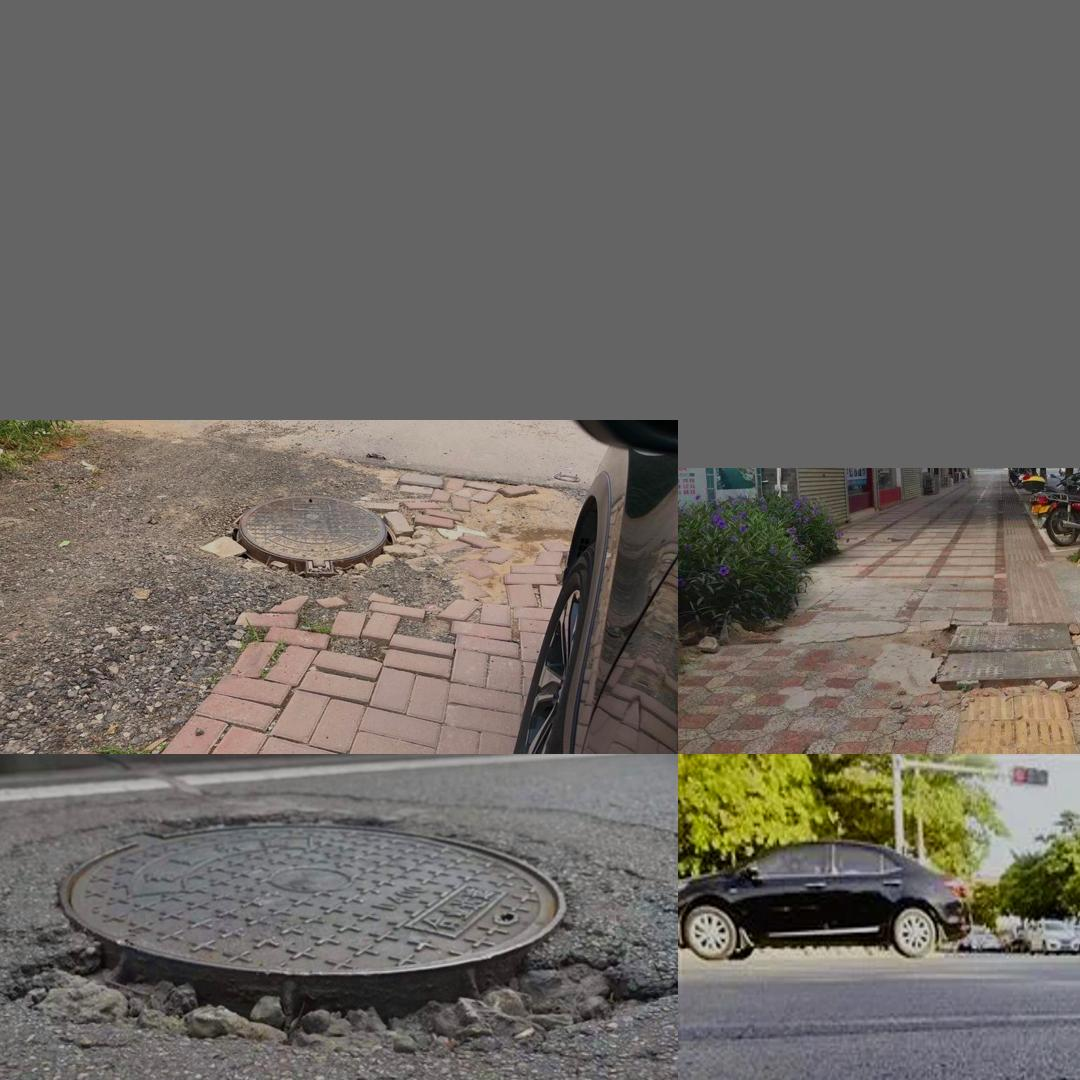circle: (0, 793, 667, 1080), (186, 472, 449, 605), (904, 605, 1080, 721), (693, 1078, 1080, 1080)
